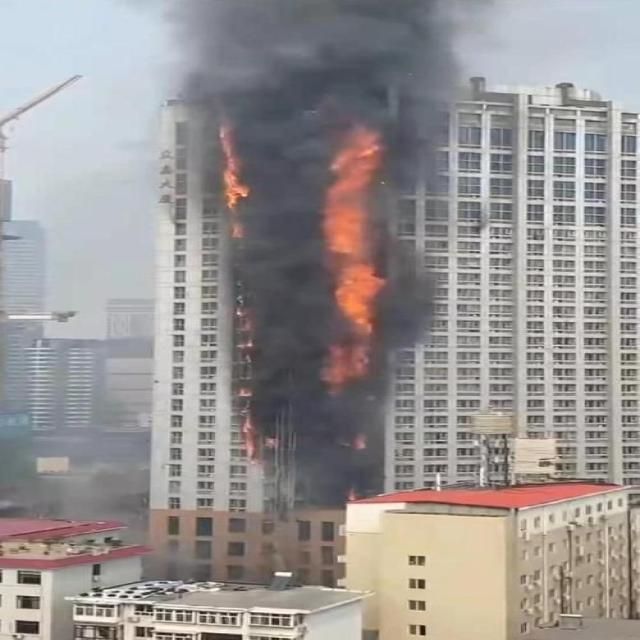Fire: (313, 122, 395, 388)
Smoke: (172, 0, 457, 126)
